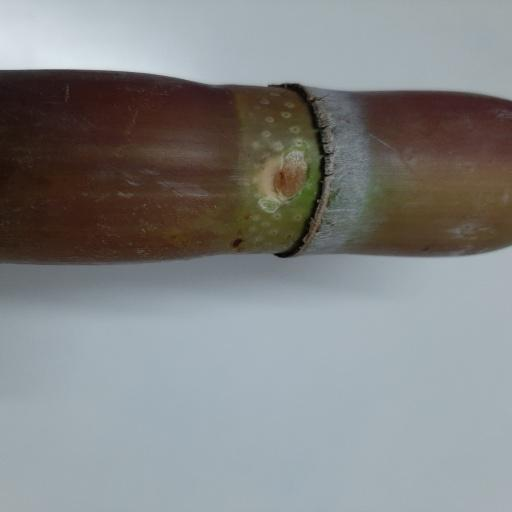Damage_Bud: (270, 148, 311, 206)
